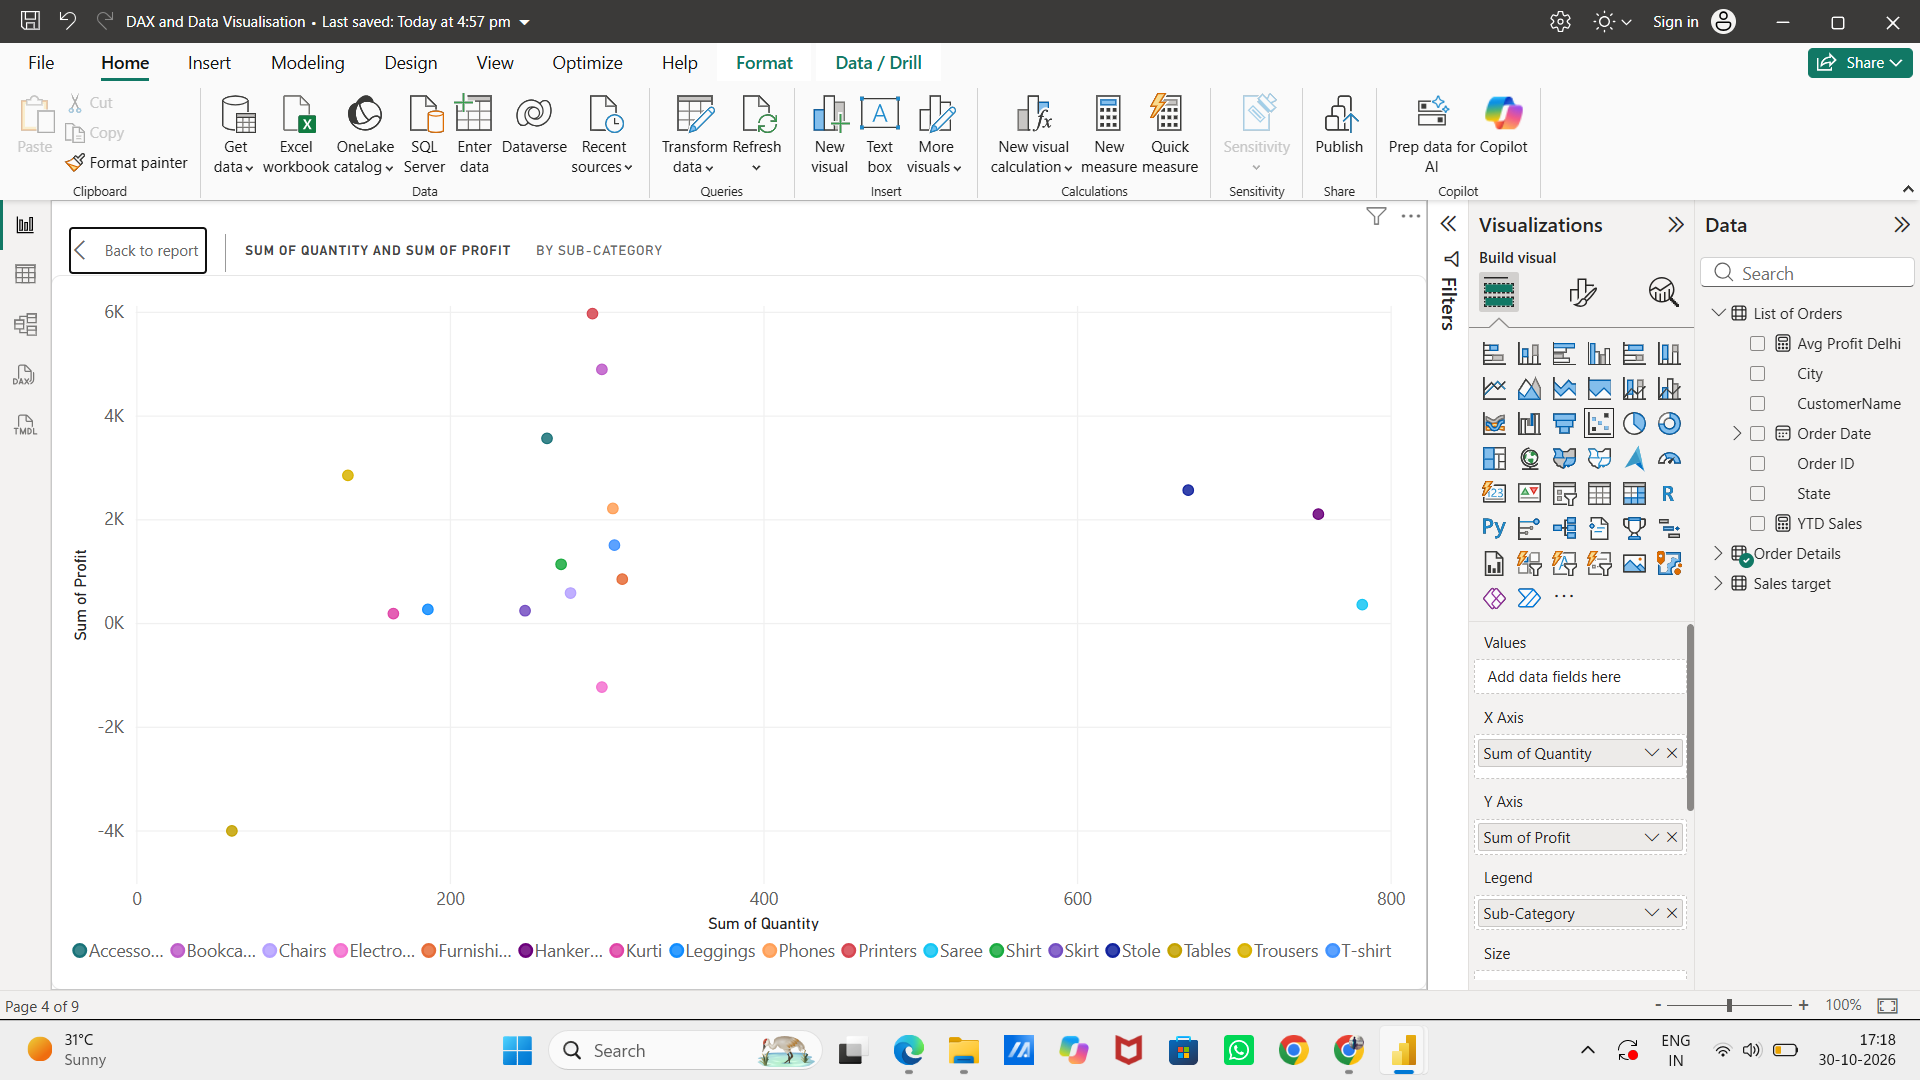

What the dashboard file says about the page in this screenshot:
{"tool":"powerbi","page":{"name":"Scatter chart","canvas":[1920,1080],"ordinal":3},"visuals":[{"type":"scatterChart","fields":{"Series":["Order Details.Sub-Category"],"X":["Sum(Order Details.Quantity)"],"Y":["Sum(Order Details.Profit)"]},"box":[10,0,280,280],"z":0}]}

Visuals, with their boxes on the page's 1920x1080 design canvas (x1, y1, x2, y2). These are canvas units, not pixel positions in the 1920x1080 screenshot, which may show the page scaled, cropped or inside an application window:
scatterChart - Order Details.Sub-Category x Sum(Order Details.Quantity): bbox(10, 0, 290, 280)
